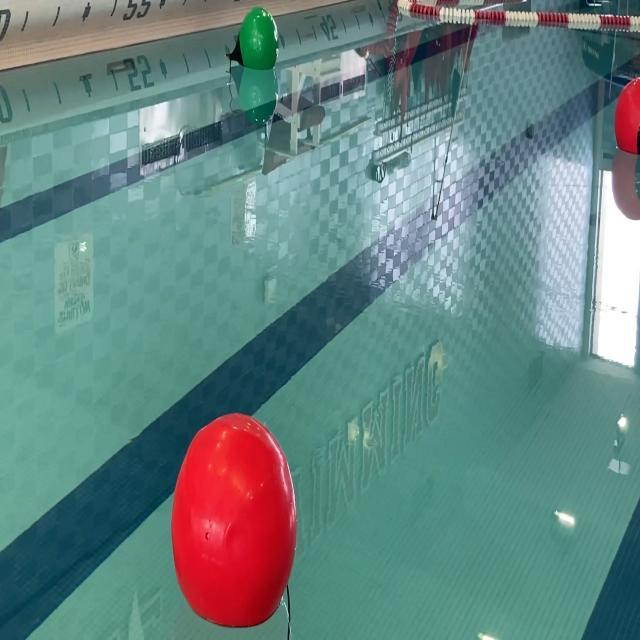buoy: (170, 414, 298, 628), (226, 8, 281, 70), (613, 69, 640, 155)
